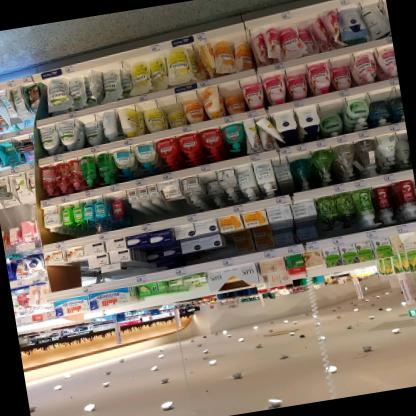empty_space: (118, 189, 132, 228)
